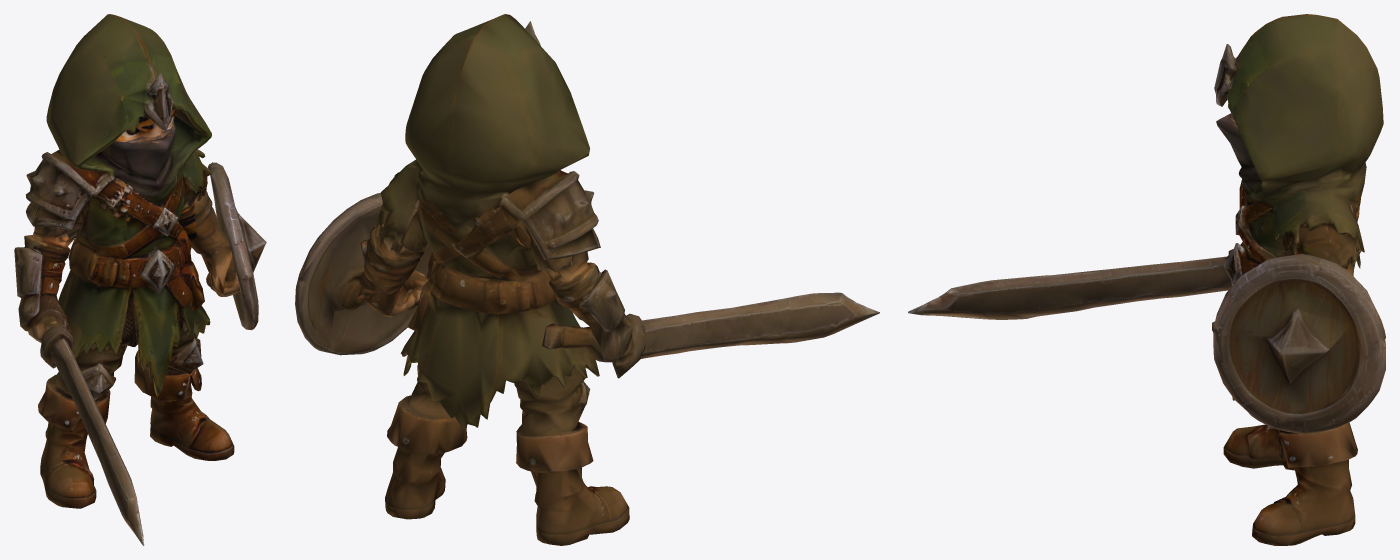
The model's file is enemy-1.glb.
The picture shows the model from 3 angles, left to right: view 1: azimuth 30°, elevation 25°; view 2: azimuth 150°, elevation 25°; view 3: azimuth 270°, elevation 25°; orthographic projection. The views are drawn at different scales.
Parts seen in each view (by area): view 1: world; view 2: world; view 3: world.
Boxes of the visible parts, x1,y1,x2,y2 form: world: (14, 14, 266, 545); world: (295, 14, 879, 545); world: (908, 14, 1385, 545).
Size of the model in its own units: 0.7051 by 0.9871 by 0.8852.
1 material, 1 textured.
